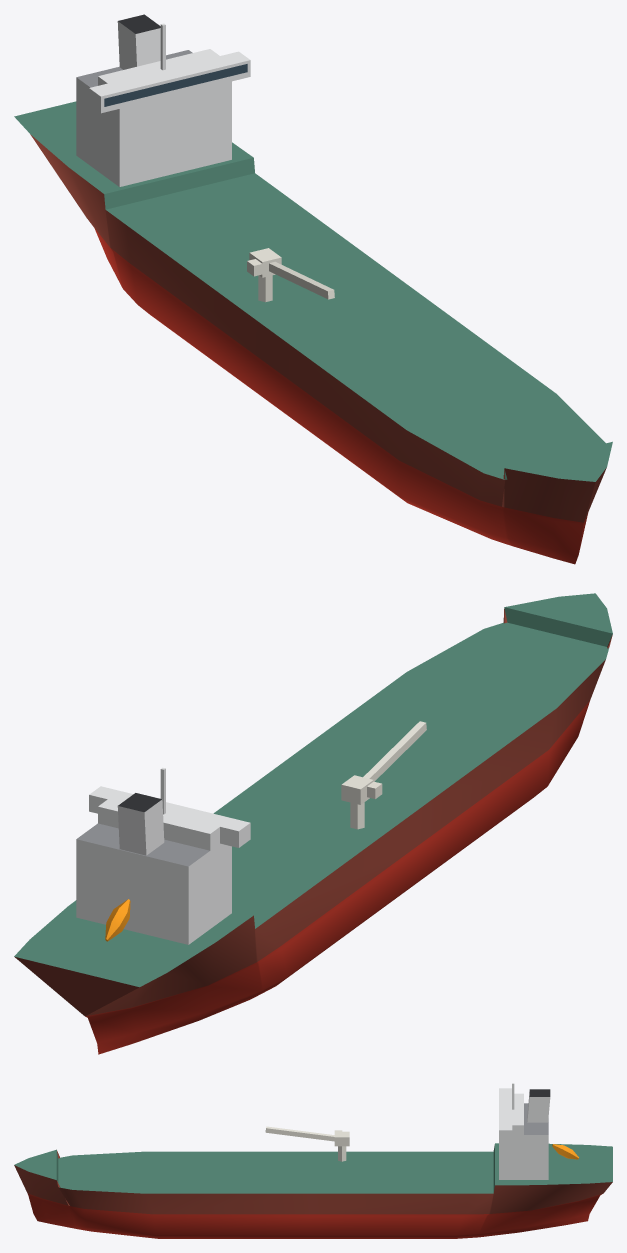
Rendered from ambient_tanker_far.fbx.
The picture shows the model from 3 angles, top to bottom: view 1: azimuth 30°, elevation 25°; view 2: azimuth 150°, elevation 25°; view 3: azimuth 270°, elevation 25°; orthographic projection. The views are drawn at different scales.
Parts seen in each view (by area): view 1: ambient_tanker_far; view 2: ambient_tanker_far; view 3: ambient_tanker_far.
Boxes of the visible parts, <box> form: ambient_tanker_far: <box>14,14,612,564</box>; ambient_tanker_far: <box>14,593,612,1054</box>; ambient_tanker_far: <box>14,1083,612,1238</box>.
Bounding box in the file's own units: 28 × 42.6 × 168.
